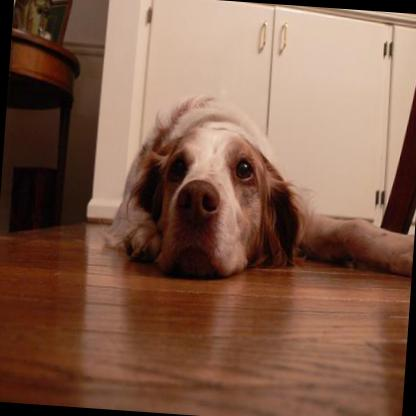Brittany_spaniel: (98, 83, 416, 295)
